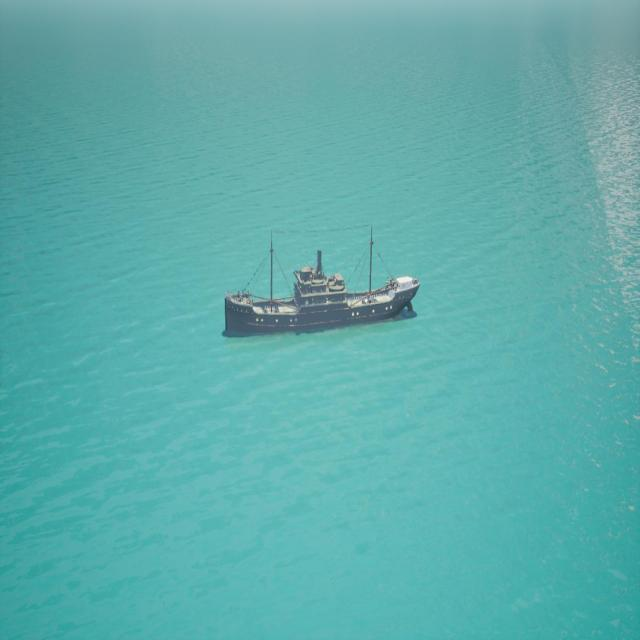fishing ship: (224, 228, 420, 339)
